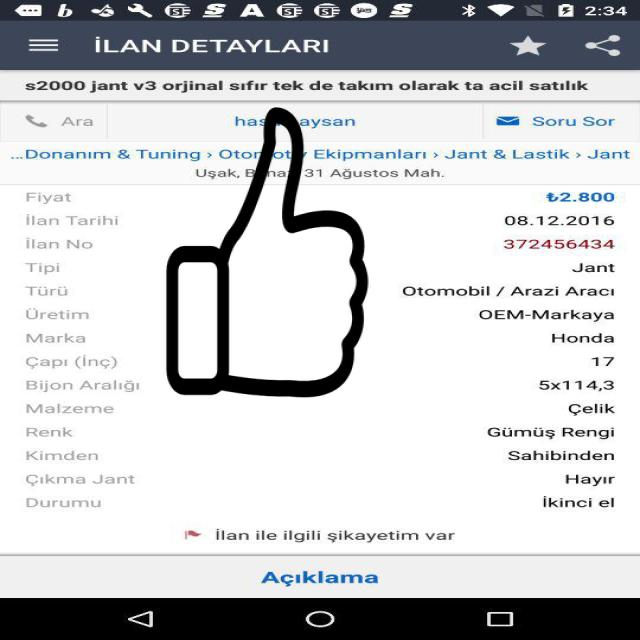privacy zuckering: (164, 108, 371, 398)
